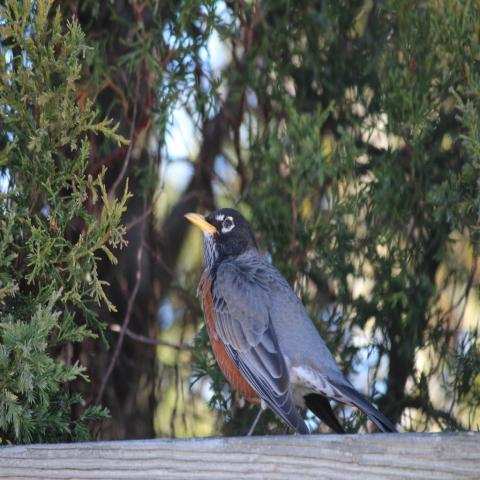bird: (182, 203, 400, 437)
